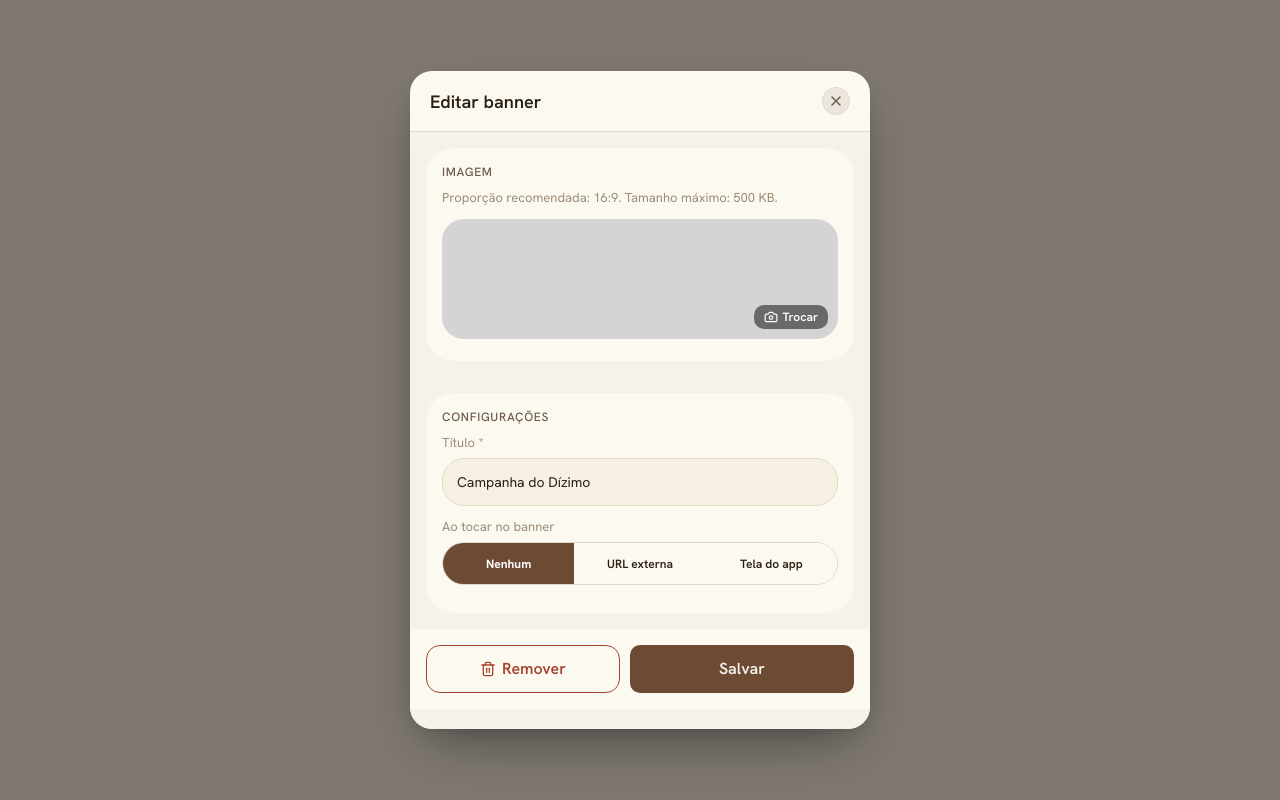
ModalBannerForm · criação › exige URL quando a ação é externa
The width and height of the screenshot is (1280, 800).
Click the button "URL externa": (640, 563) 574,543 -> 706,584
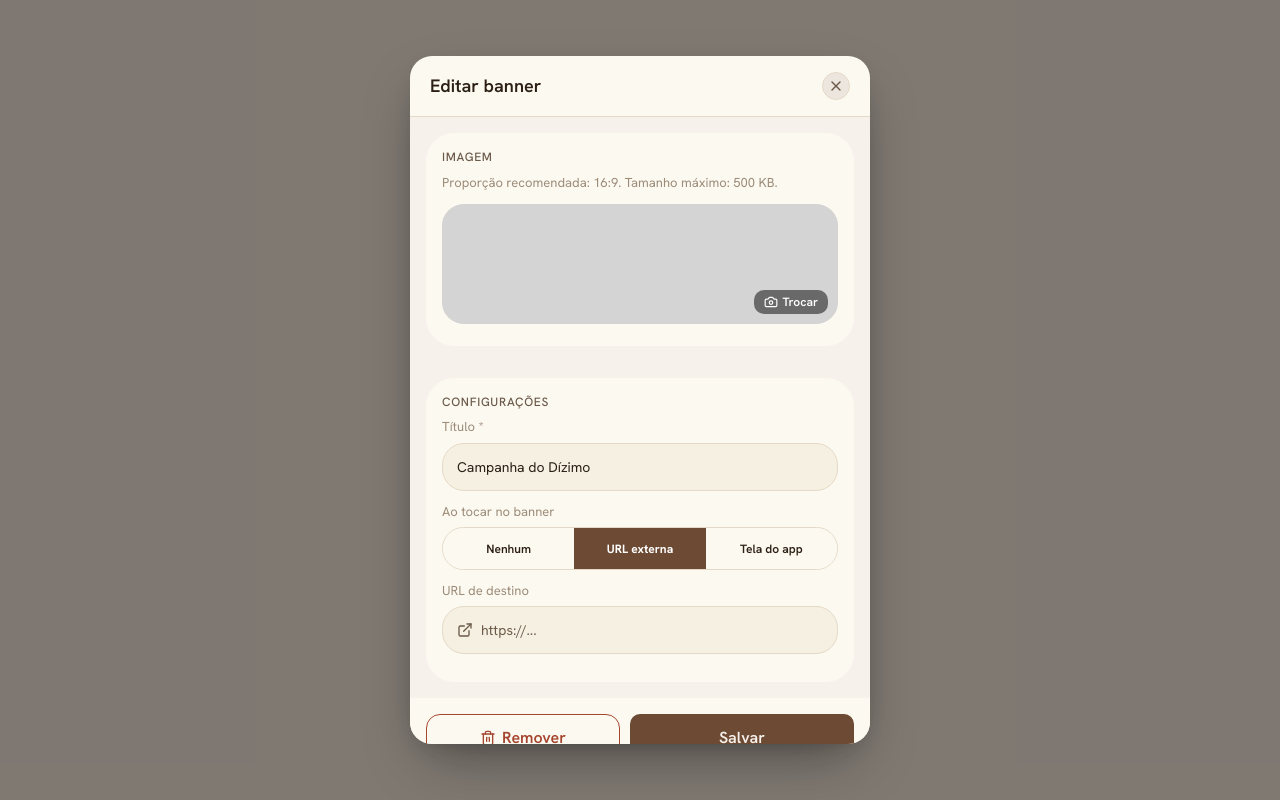
Click the button "Salvar": (742, 738) 630,714 -> 854,762
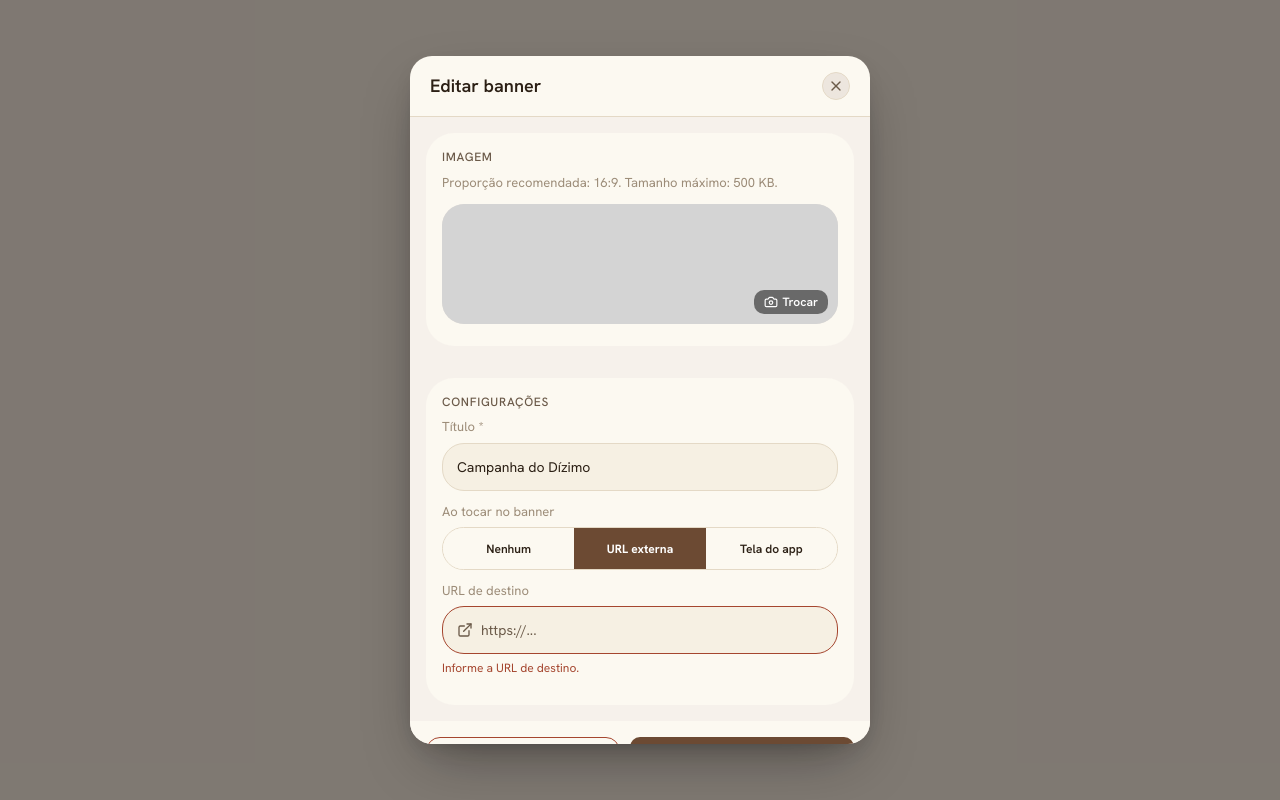
Expected: the text "Informe a URL de destino." is shown, 442,660 -> 579,676
